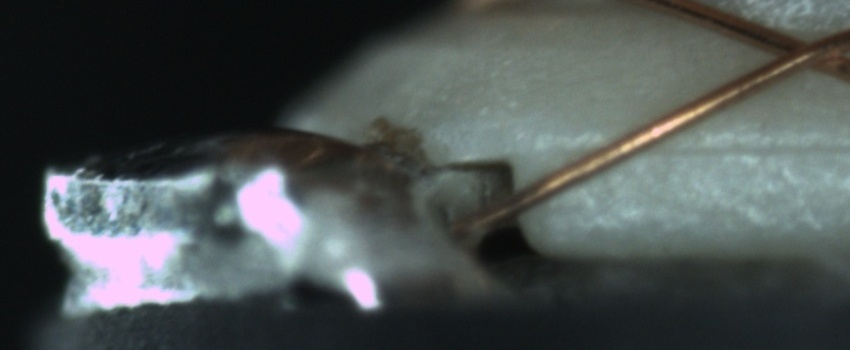CL: (750, 18, 842, 82)
DL: (557, 115, 848, 181)
